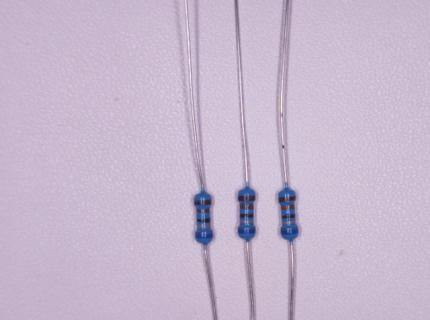Black band: (196, 219, 210, 223), (282, 214, 296, 218), (240, 214, 253, 218)
Blue band: (239, 229, 255, 234), (282, 230, 298, 235), (195, 234, 212, 238)
Brown band: (279, 196, 296, 203), (194, 200, 211, 205), (238, 196, 255, 201)
Grey band: (283, 220, 296, 225), (197, 225, 210, 228), (240, 220, 253, 223)
Orange band: (282, 203, 295, 210), (240, 205, 254, 209), (197, 209, 210, 213)
